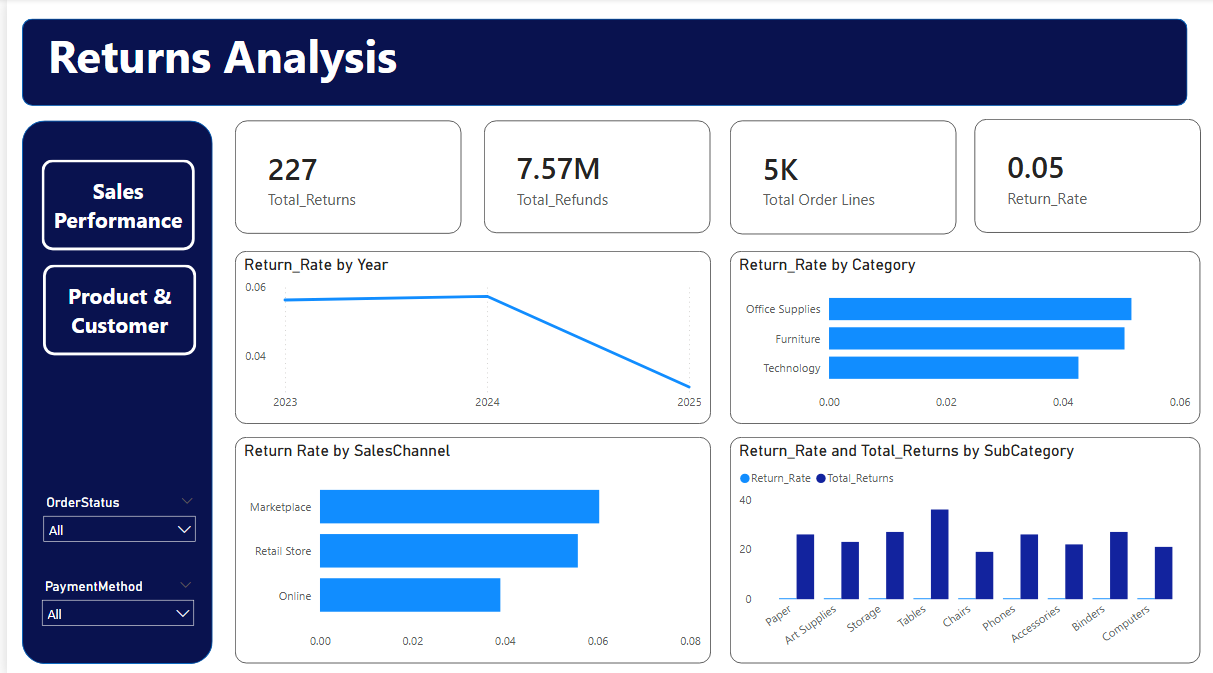

This screenshot's page, from the dashboard's own definition file:
{"tool":"powerbi","page":{"name":"Return Analysis","canvas":[1280,720],"ordinal":2},"visuals":[{"type":"shape","box":[15.1,20.8,1235.9,92.6],"z":3},{"type":"shape","box":[15.1,128.5,202.2,576.4],"z":4},{"type":"cardVisual","fields":{"Data":["RFM.Total_Returns"]},"box":[241.9,128.5,240,120],"z":5},{"type":"cardVisual","fields":{"Data":["RFM.Total Order Lines"]},"box":[767.2,128.5,240,120.9],"z":6},{"type":"cardVisual","fields":{"Data":["RFM.Total_Refunds"]},"box":[506.5,128.5,240,119.1],"z":7},{"type":"cardVisual","fields":{"Data":["RFM.Return_Rate"]},"box":[1026.1,126.6,240,120.9],"z":8},{"type":"lineChart","fields":{"Category":["datetable.Year"],"Y":["RFM.Return_Rate"]},"box":[241.9,266.5,504.6,183.3],"z":9},{"type":"barChart","fields":{"Category":["orders.SalesChannel"],"Y":["customers.Return Rate"]},"box":[241.9,464.9,504.6,240],"z":10},{"type":"barChart","fields":{"Category":["products.Category"],"Y":["RFM.Return_Rate"]},"box":[767.2,266.5,498.9,183.3],"z":11},{"type":"clusteredColumnChart","fields":{"Category":["products.SubCategory"],"Y":["RFM.Return_Rate","RFM.Total_Returns"]},"box":[767.2,464.9,498.9,240],"z":12},{"type":"textbox","box":[37.8,20.8,689.8,85],"z":13},{"type":"actionButton","box":[37.8,281.6,162.5,96.4],"z":14},{"type":"actionButton","box":[35.9,170.1,162.5,96.4],"z":15},{"type":"slicer","fields":{"Values":["orders.OrderStatus"]},"box":[1056.2,35,181.3,65.2],"z":16},{"type":"slicer","fields":{"Values":["orders.PaymentMethod"]},"box":[874.8,36.6,181.3,65.2],"z":17}]}

Visuals, with their boxes in screenshot pixels (x1, y1, x2, y2), scaled from the page's 1280x720 canvas onto the 1213x673 screenshot:
shape: 14,19,1186,106
shape: 14,120,206,659
cardVisual - RFM.Total_Returns: 229,120,457,232
cardVisual - RFM.Total Order Lines: 727,120,954,233
cardVisual - RFM.Total_Refunds: 480,120,707,231
cardVisual - RFM.Return_Rate: 972,118,1200,231
lineChart - datetable.Year x RFM.Return_Rate: 229,249,707,420
barChart - orders.SalesChannel x customers.Return Rate: 229,435,707,659
barChart - products.Category x RFM.Return_Rate: 727,249,1200,420
clusteredColumnChart - products.SubCategory x RFM.Return_Rate: 727,435,1200,659
textbox: 36,19,690,99
actionButton: 36,263,190,353
actionButton: 34,159,188,249
slicer - orders.OrderStatus: 1001,33,1173,94
slicer - orders.PaymentMethod: 829,34,1001,95
